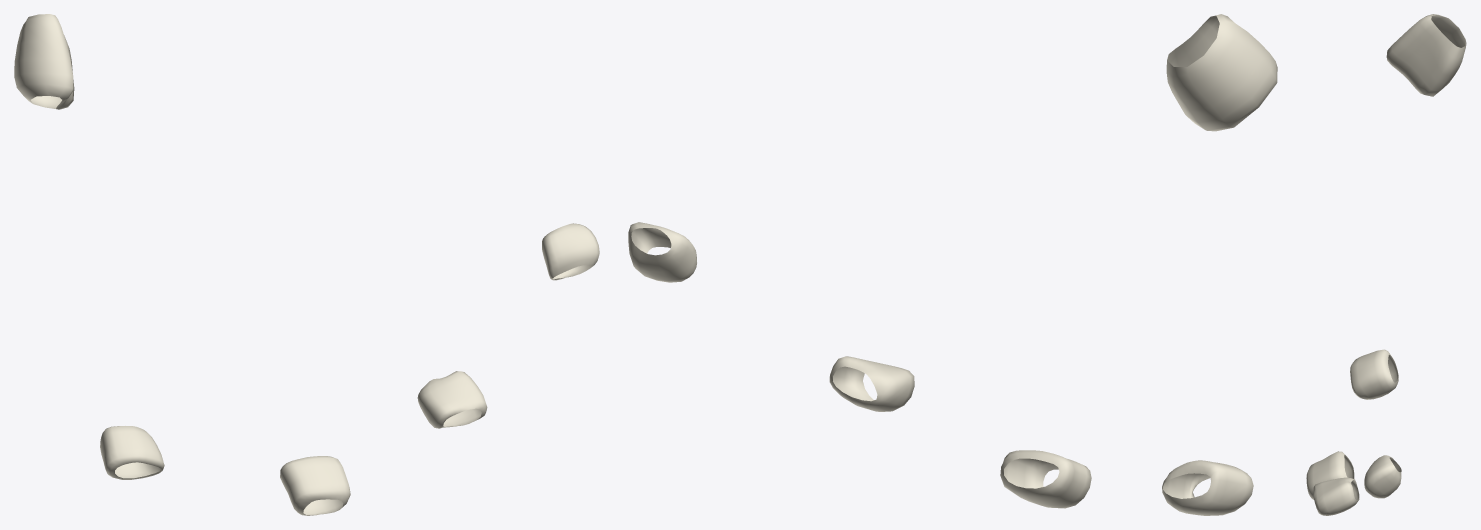
The picture shows the model from 3 angles, left to right: view 1: azimuth 30°, elevation 25°; view 2: azimuth 150°, elevation 25°; view 3: azimuth 270°, elevation 25°; orthographic projection. The views are drawn at different scales.
Visible parts, largest first — view 1: ZA_cff5efd645ee985b; view 2: ZA_cff5efd645ee985b; view 3: ZA_cff5efd645ee985b.
Boxes of the visible parts, x1,y1,x2,y2 form: ZA_cff5efd645ee985b: [14, 14, 599, 515]; ZA_cff5efd645ee985b: [628, 14, 1277, 515]; ZA_cff5efd645ee985b: [1306, 14, 1466, 515].
Size of the model in its own units: 0.1053 by 0.0919 by 0.0331.
